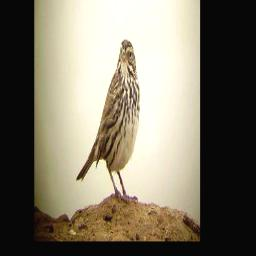Sparrow: (75, 38, 141, 205)
